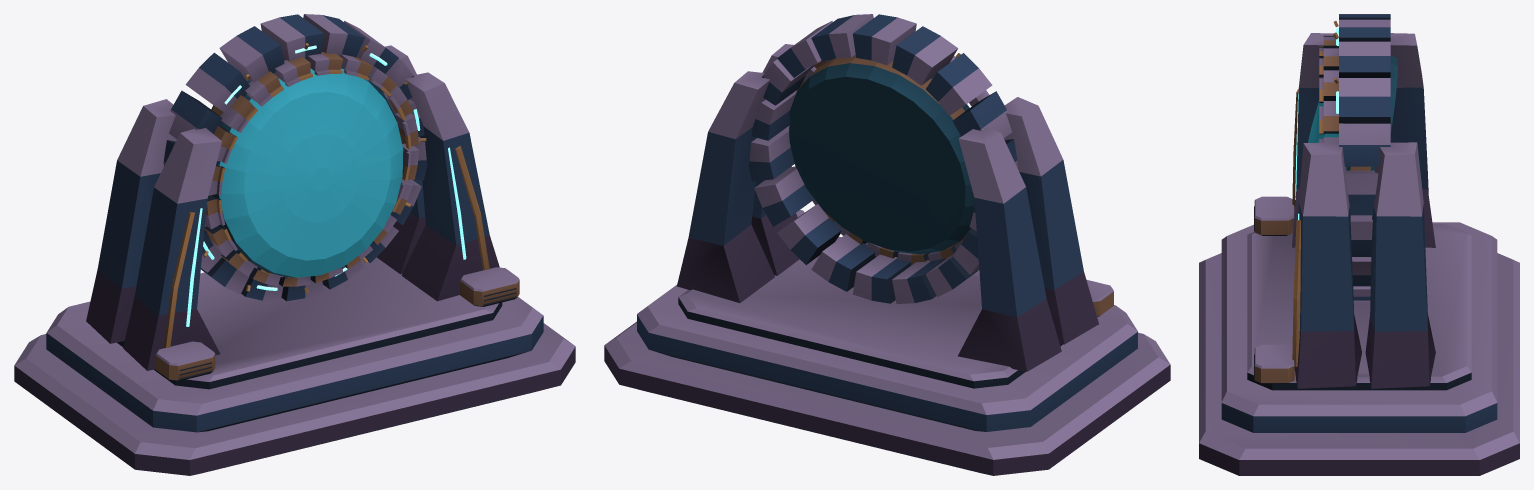
The model's file is sanctuary-collimator.glb.
The picture shows the model from 3 angles, left to right: view 1: azimuth 30°, elevation 25°; view 2: azimuth 150°, elevation 25°; view 3: azimuth 270°, elevation 25°; orthographic projection.
Parts seen in each view (by area): view 1: sanctuary-collimator; view 2: sanctuary-collimator; view 3: sanctuary-collimator.
Part boxes in pixels (bbox=[...]): sanctuary-collimator: bbox=[14, 14, 575, 475]; sanctuary-collimator: bbox=[604, 14, 1170, 475]; sanctuary-collimator: bbox=[1199, 14, 1519, 475].
Size of the model in its own units: 8.6 by 6.53 by 5.44.
